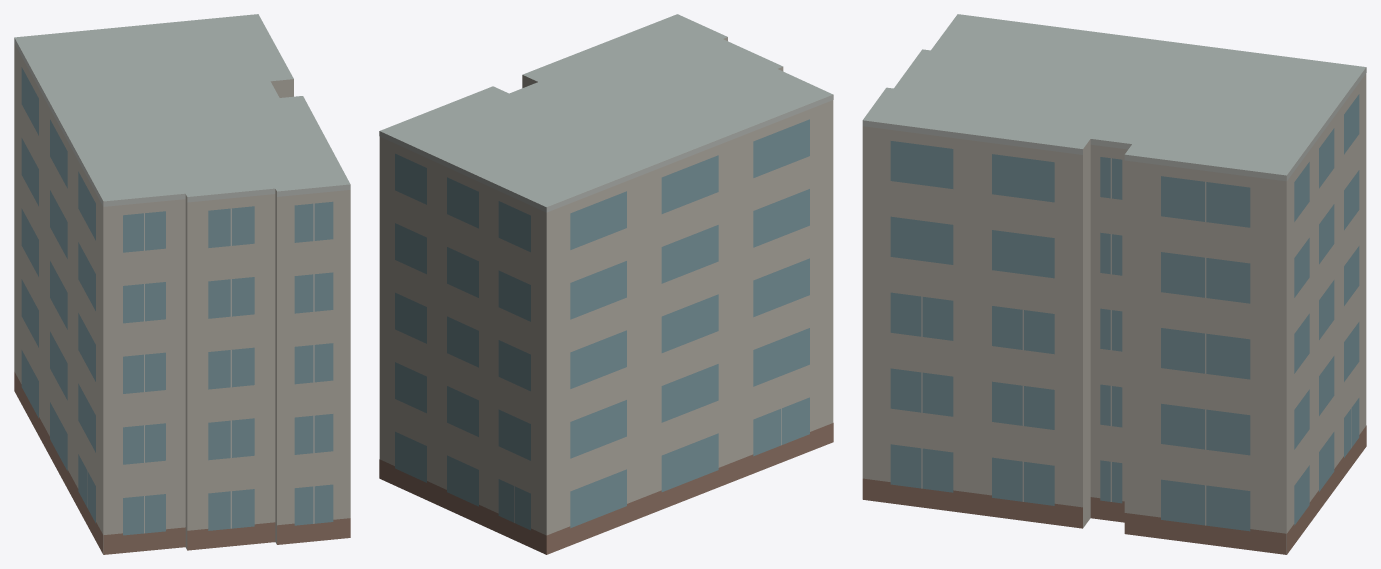
Rendered from survey-upis-33007505.glb.
3 views of the same model, side by side, from view 1: azimuth 30°, elevation 25°; view 2: azimuth 150°, elevation 25°; view 3: azimuth 270°, elevation 25° (orthographic). The views are drawn at different scales.
Visible parts, largest first — view 1: survey-upis-33007505.tmp; view 2: survey-upis-33007505.tmp; view 3: survey-upis-33007505.tmp.
Boxes of the visible parts, x1,y1,x2,y2 form: survey-upis-33007505.tmp: (14, 14, 350, 554); survey-upis-33007505.tmp: (379, 14, 833, 554); survey-upis-33007505.tmp: (862, 14, 1366, 554).
Bounding box in the file's own units: 14.43 × 15.8 × 19.03.
